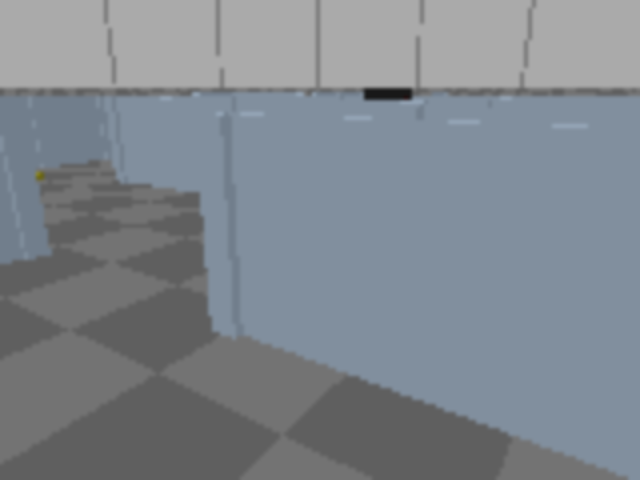obstacle: (0, 447, 40, 478)
